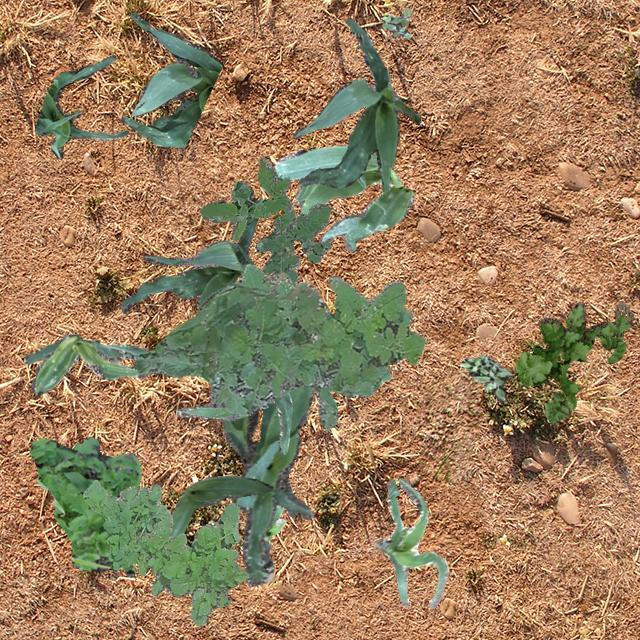crop: (292, 17, 420, 190), (220, 384, 314, 586), (272, 144, 413, 250), (120, 12, 222, 146), (120, 218, 256, 312), (34, 54, 128, 158), (374, 478, 448, 608), (23, 332, 148, 394), (176, 389, 290, 454), (168, 474, 272, 536), (262, 504, 284, 548)
weed: (132, 262, 426, 430), (82, 480, 248, 624), (29, 436, 140, 576), (514, 301, 632, 424), (254, 156, 330, 284), (198, 180, 286, 240), (458, 354, 512, 402), (380, 8, 410, 38)
